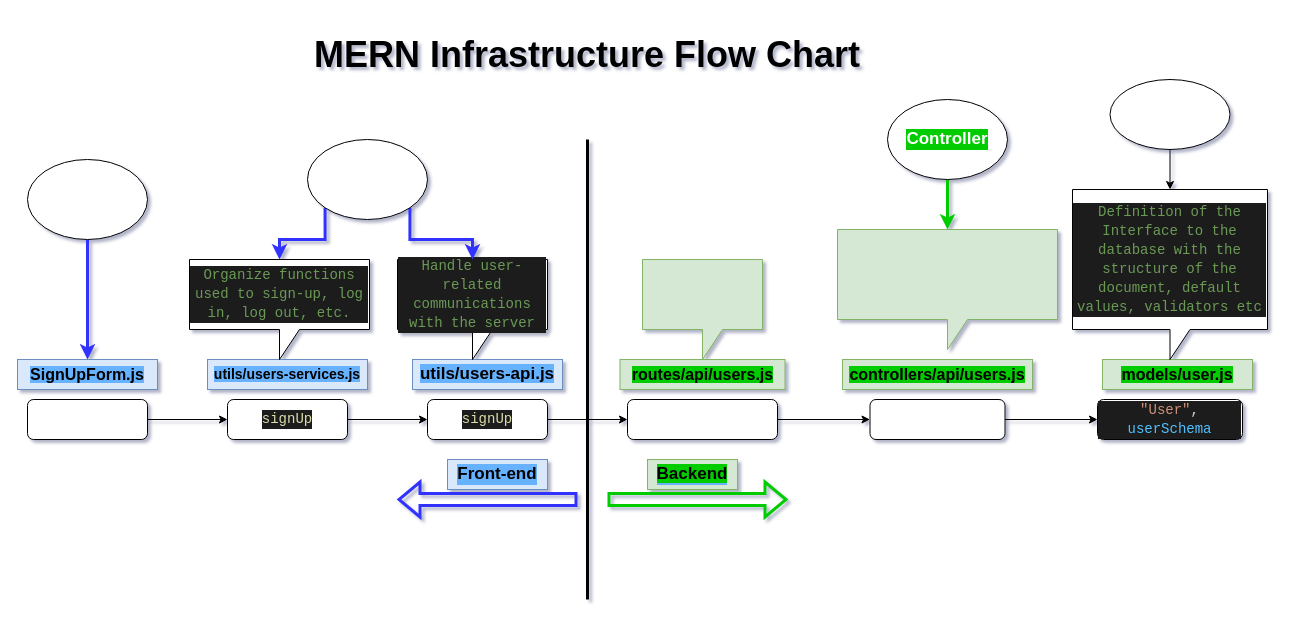
Image size: 1291x625. Some labels were removed from this diagram. The centre of each missing label's shape, as x and y in pixels:
create: (x=937, y=419)
Functions that will use the model to CRUD users: (x=947, y=289)
handleSubmit: (x=87, y=419)
Model: (x=1169, y=114)
Router for all users related end-points: (x=702, y=309)
userCtr . create: (x=702, y=419)
utilities funcs: (x=367, y=179)
View: (x=87, y=199)
